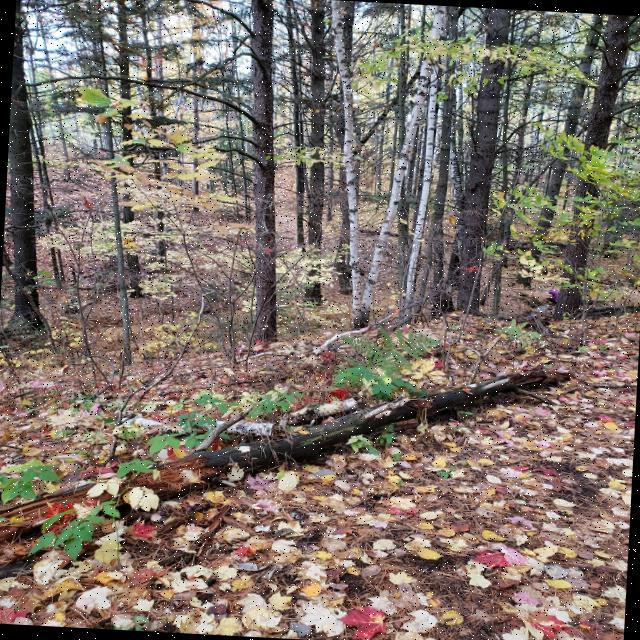fallen_object: (0, 303, 597, 590)
